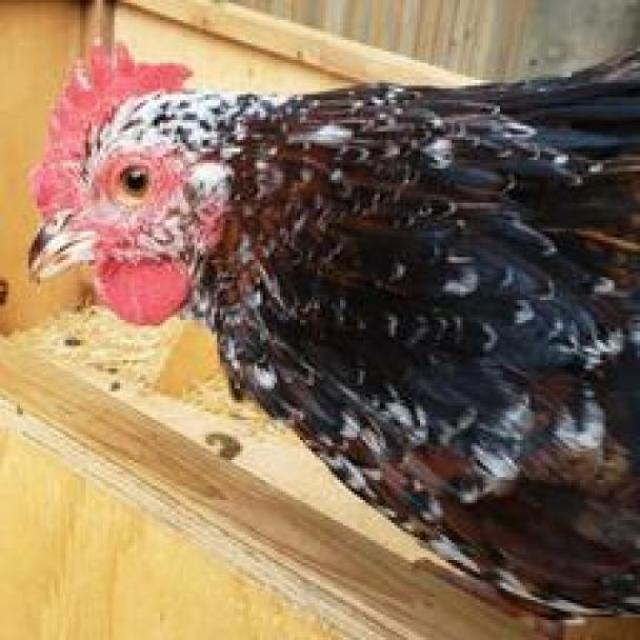Chicken: (31, 44, 640, 630)
